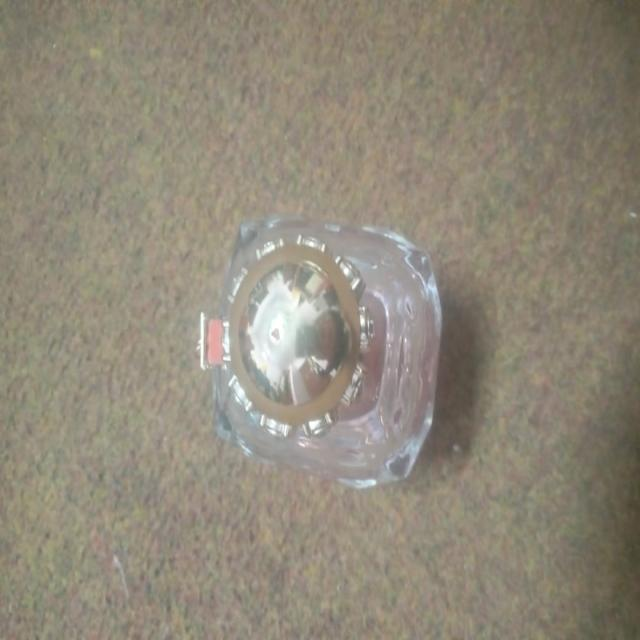highlighter: (187, 195, 456, 523)
